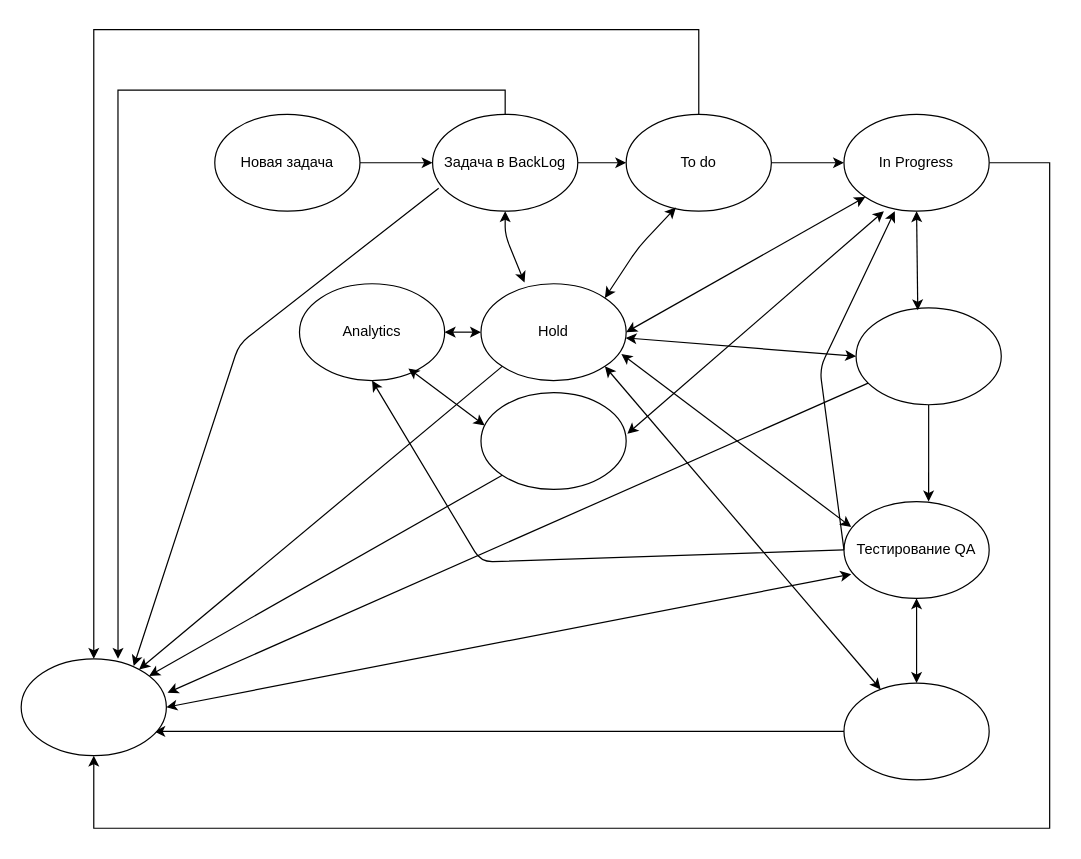
This 1081x859 diagram has some shape labels left out. Here are the shapes that lost their labels. From the top down, the centre of each, then its label:
(928,356): Тестирование разработчиком
(553,440): Clarification
(93,707): Closed
(916,731): Деплойд на прод
